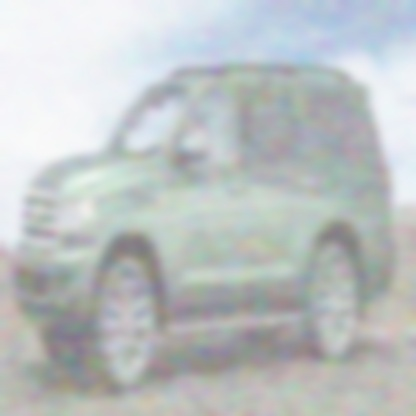Vehicle: (11, 63, 398, 398)
